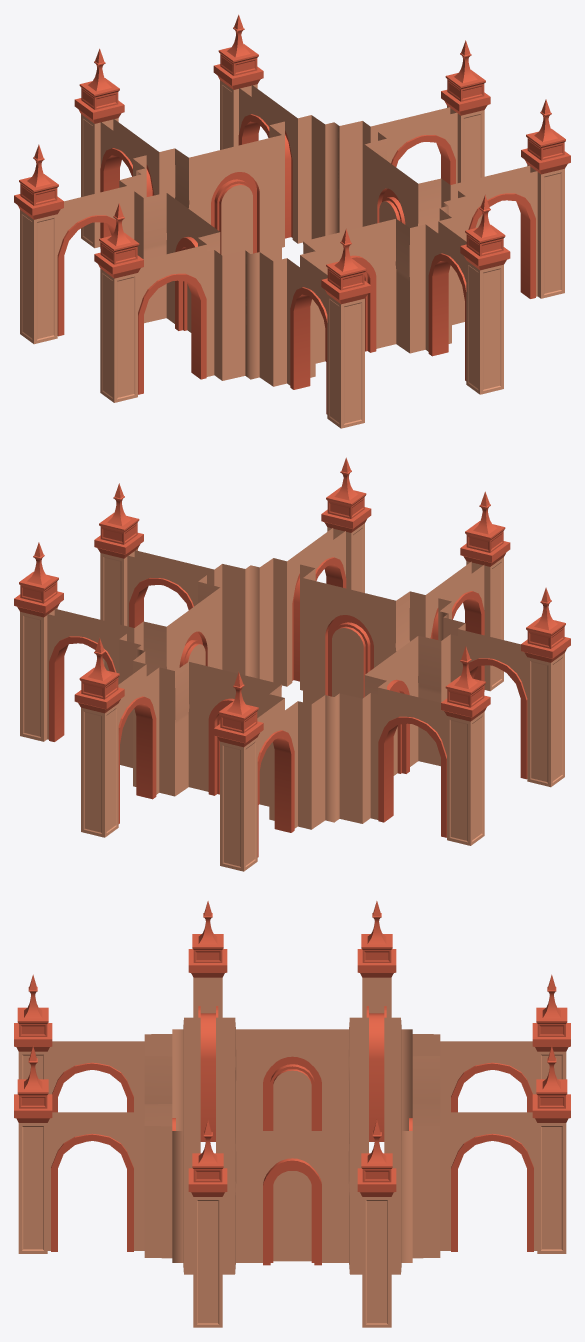
File: TowerBase.fbx
3 renders of one model, top to bottom at view 1: azimuth 30°, elevation 25°; view 2: azimuth 150°, elevation 25°; view 3: azimuth 270°, elevation 25°, orthographic. The views are drawn at different scales.
Visible parts, largest first — view 1: TowerBase; view 2: TowerBase; view 3: TowerBase.
Part boxes in pixels (bbox=[...]): TowerBase: bbox=[14, 14, 570, 428]; TowerBase: bbox=[14, 457, 570, 871]; TowerBase: bbox=[14, 901, 570, 1327].
Bounding box in the file's own units: 13.39 × 5.37 × 13.39.
